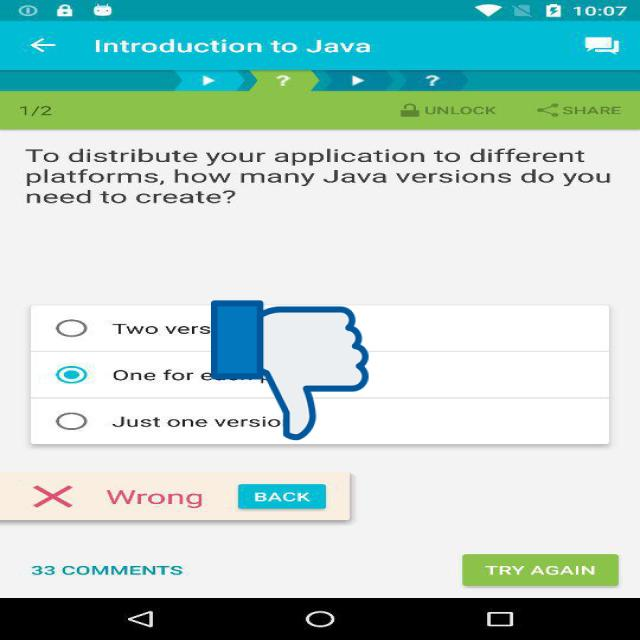obstruction: (211, 297, 369, 443)
